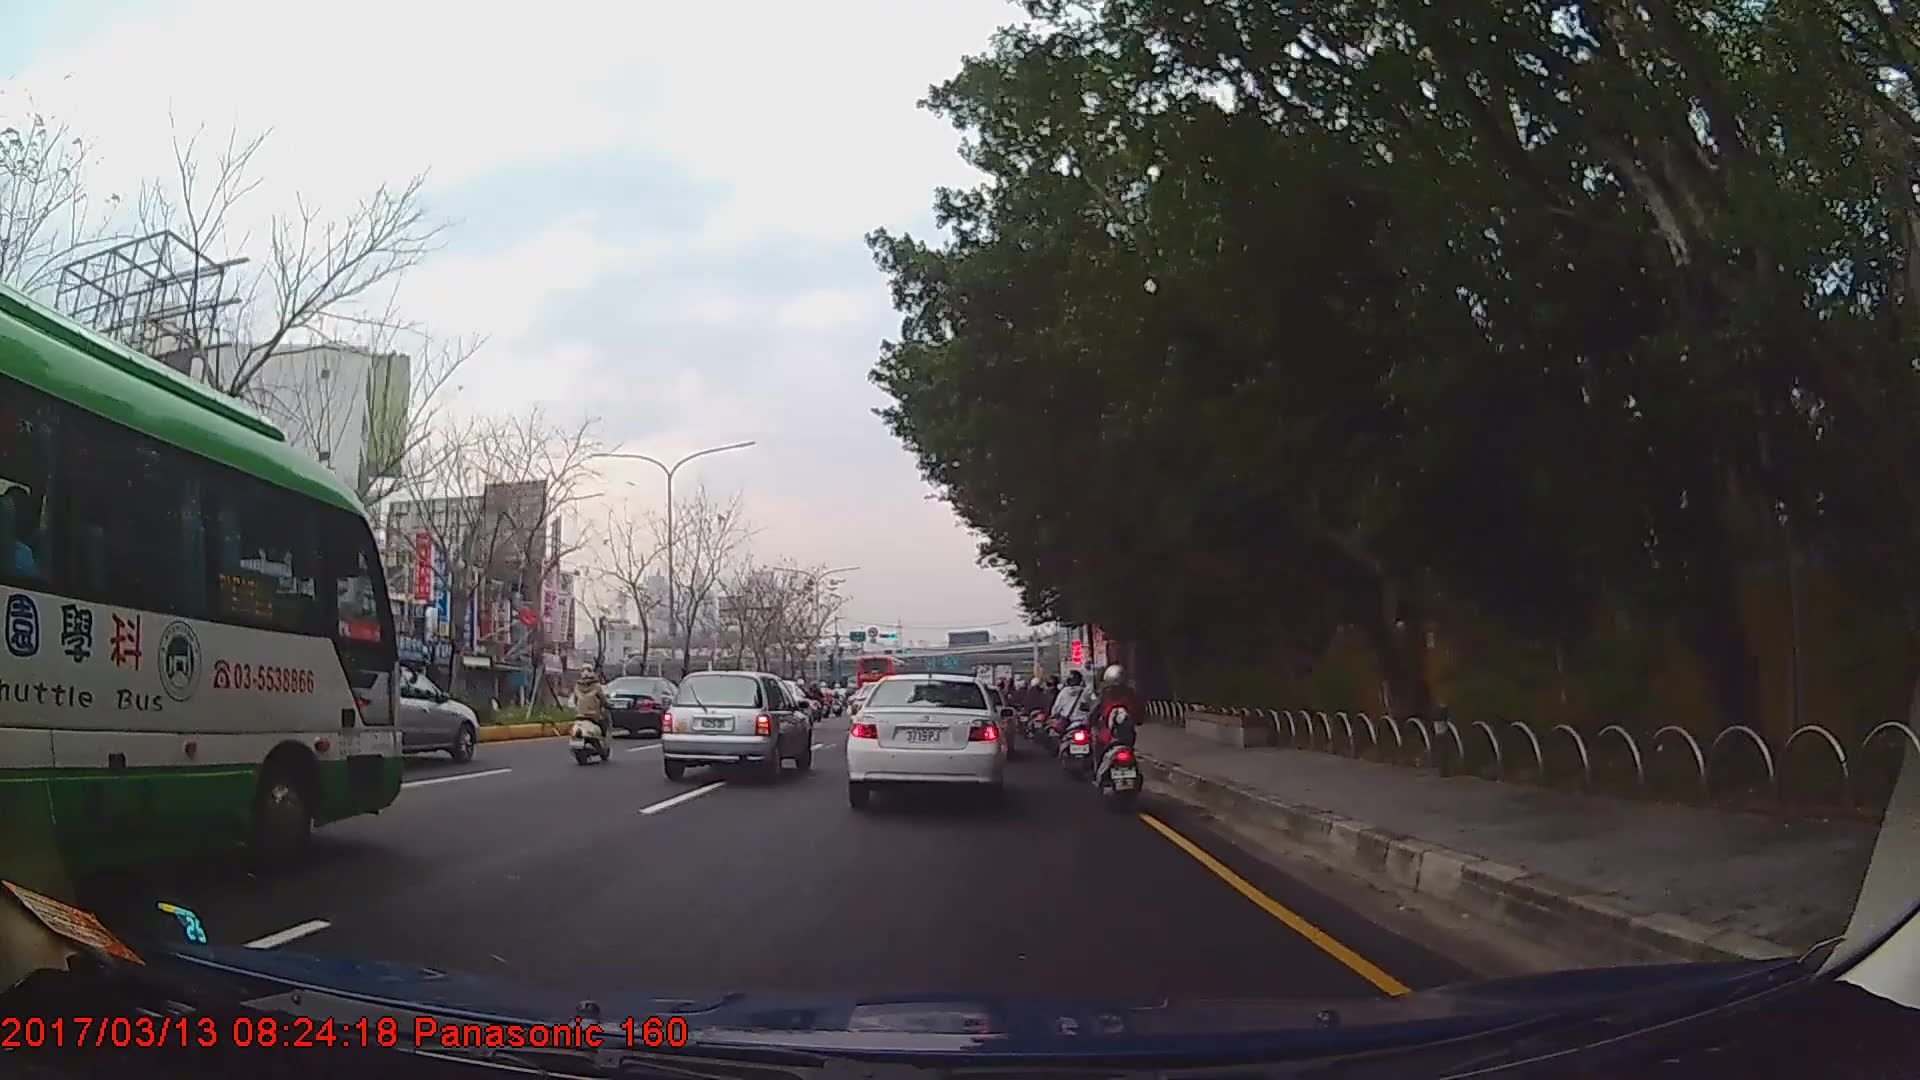rider: (1087, 657, 1150, 812), (1055, 672, 1100, 780), (572, 664, 614, 762), (1042, 671, 1066, 749)
vehicle: (0, 284, 405, 896), (841, 671, 1007, 808), (662, 668, 813, 782), (339, 663, 477, 761), (593, 674, 688, 737), (855, 649, 908, 698)
